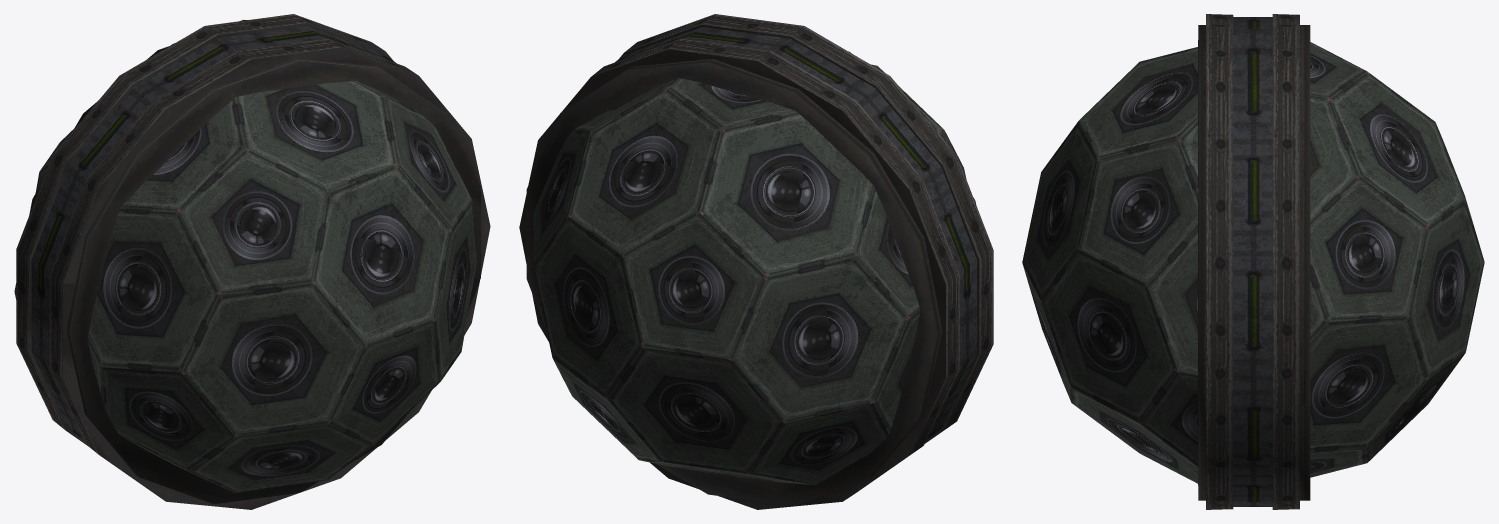
The model's file is t6_wpn_motion_sensor_world_LOD0.obj.
3 views of the same model, side by side, from view 1: azimuth 30°, elevation 25°; view 2: azimuth 150°, elevation 25°; view 3: azimuth 270°, elevation 25° (orthographic).
Visible parts, largest first — view 1: mtl_t6_wpn_motion_sensor; view 2: mtl_t6_wpn_motion_sensor; view 3: mtl_t6_wpn_motion_sensor.
Part boxes in pixels (bbox=[...]): mtl_t6_wpn_motion_sensor: bbox=[14, 14, 490, 509]; mtl_t6_wpn_motion_sensor: bbox=[519, 14, 993, 509]; mtl_t6_wpn_motion_sensor: bbox=[1022, 14, 1484, 509].
Bounding box in the file's own units: 12.24 × 12.31 × 11.48.
